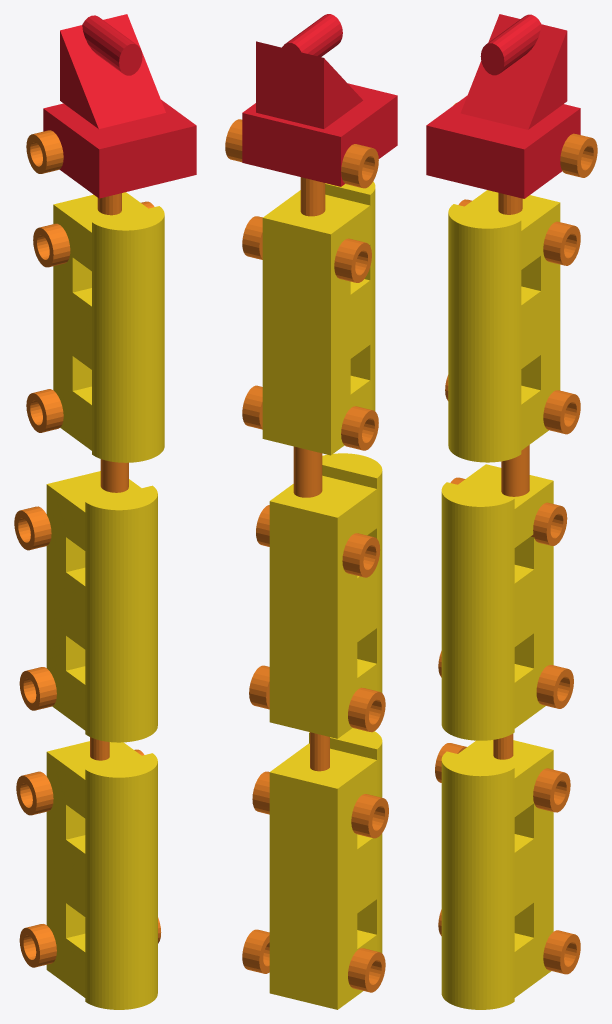
File: tinker.obj
The picture shows the model from 3 angles, left to right: view 1: azimuth 30°, elevation 25°; view 2: azimuth 150°, elevation 25°; view 3: azimuth 330°, elevation 25°; orthographic projection.
Visible parts, largest first — view 1: group_0_16768282, group_0_15277357, group_0_16089887; view 2: group_0_16768282, group_0_16089887, group_0_15277357; view 3: group_0_16768282, group_0_15277357, group_0_16089887.
Part boxes in pixels (x1,y1,x2,y2): group_0_16768282: (46, 192, 164, 1009); group_0_15277357: (43, 14, 196, 198); group_0_16089887: (14, 130, 161, 967); group_0_16768282: (262, 181, 382, 1009); group_0_16089887: (225, 119, 388, 992); group_0_15277357: (242, 14, 397, 186); group_0_16768282: (441, 190, 560, 1009); group_0_15277357: (426, 14, 580, 198); group_0_16089887: (435, 102, 597, 974).
Size of the model in its own units: 42 by 269 by 32.77.
